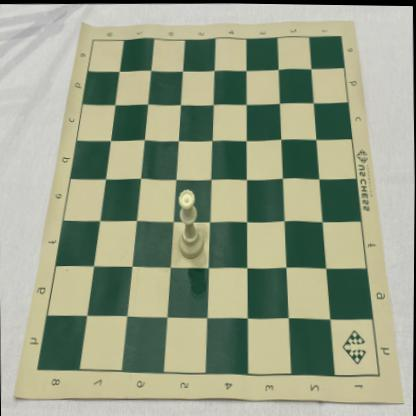white-queen: (177, 187, 205, 258)
